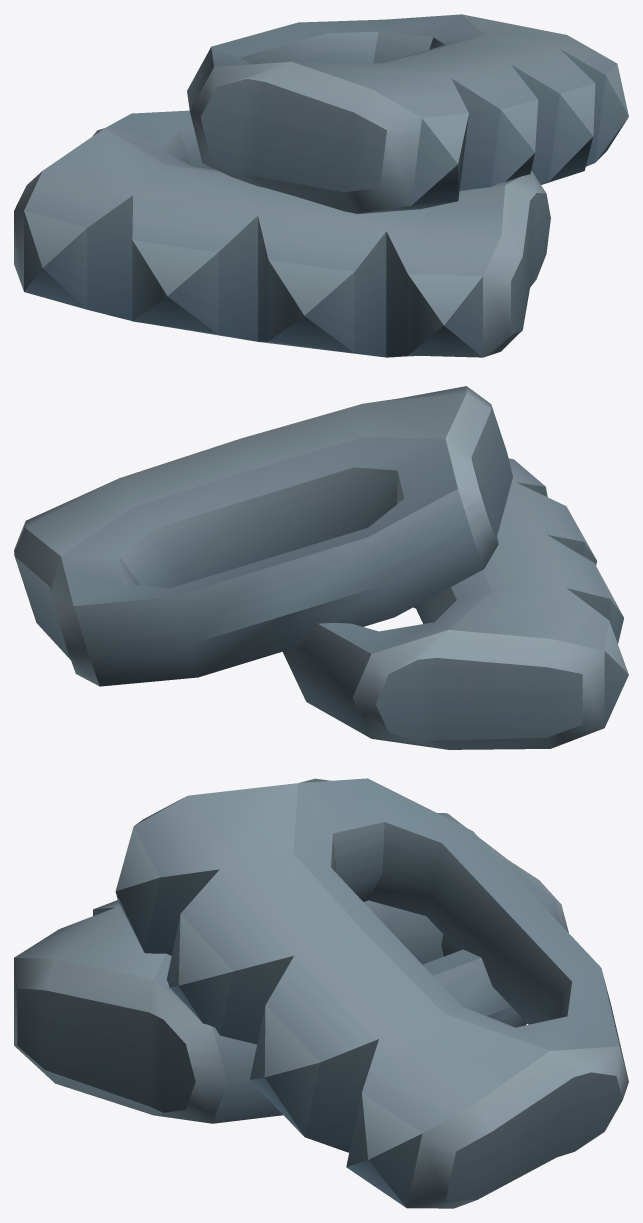
The model's file is kk_fistweapon_A_stacked.glb.
The picture shows the model from 3 angles, top to bottom: view 1: azimuth 30°, elevation 25°; view 2: azimuth 150°, elevation 25°; view 3: azimuth 270°, elevation 25°; orthographic projection. The views are drawn at different scales.
Visible parts, largest first — view 1: fistweapon_A_stacked; view 2: fistweapon_A_stacked; view 3: fistweapon_A_stacked.
Boxes of the visible parts, <box> form: fistweapon_A_stacked: <box>14,14,628,357</box>; fistweapon_A_stacked: <box>14,386,628,749</box>; fistweapon_A_stacked: <box>14,778,628,1208</box>.
Bounding box in the file's own units: 0.43 × 0.1627 × 0.3512.
1 material, 1 textured.
